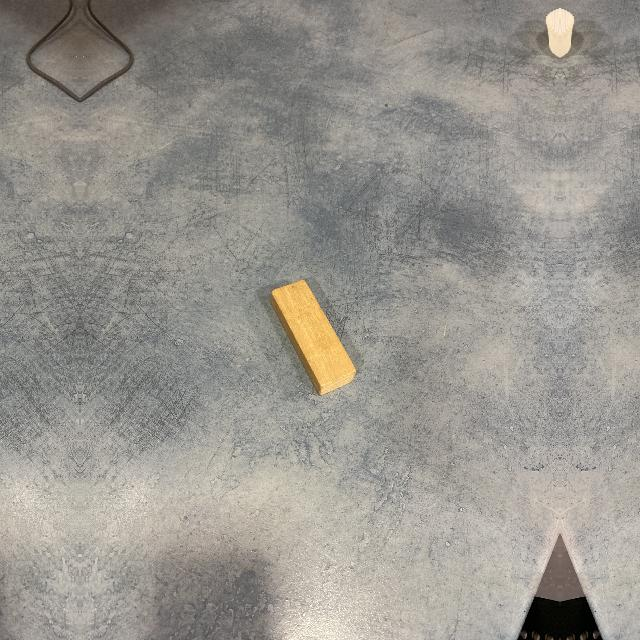jenga: (270, 281, 356, 396)
